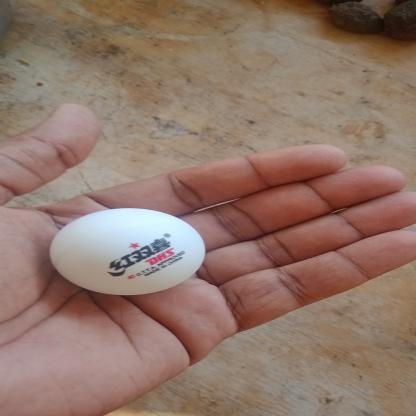Tabel Tennis: (44, 207, 219, 298)
